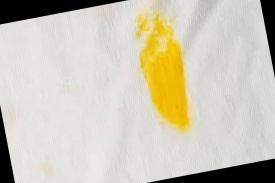mustard: (125, 9, 201, 135)
